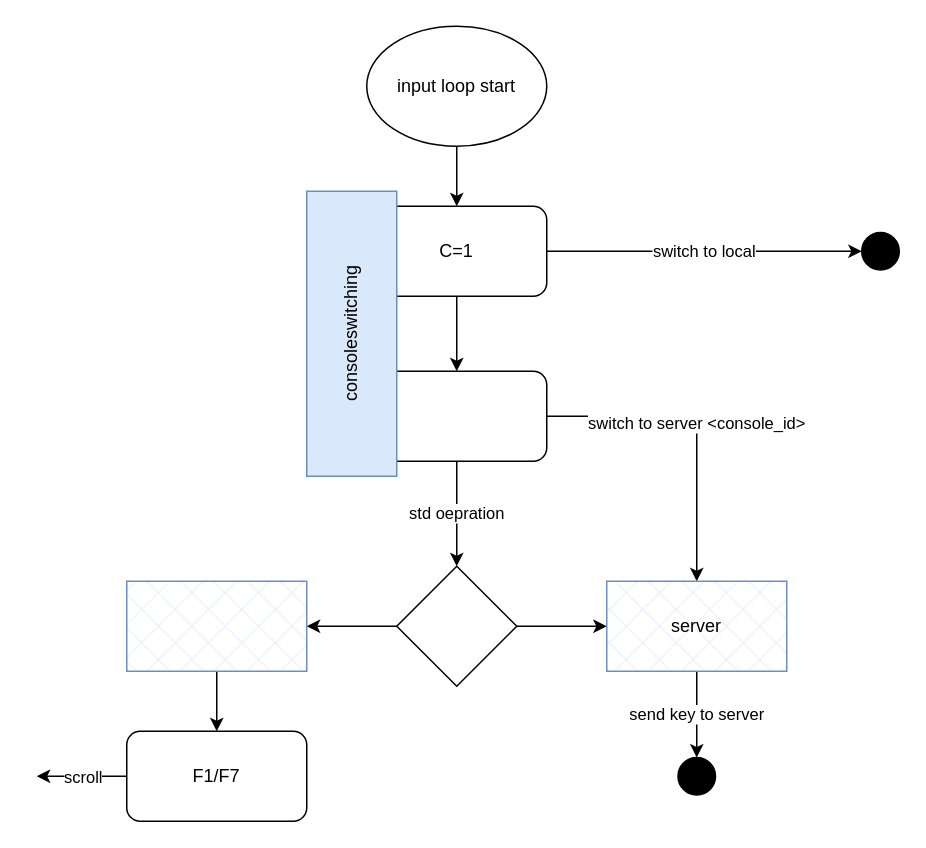
The diagram is 926 pixels wide and 848 high, and some of its shapes have lost their labels. Each missing label, with the box of its shape:
based on console_id: (395, 565, 517, 686)
C=2 - 8: (365, 370, 547, 461)
local: (125, 580, 307, 671)
